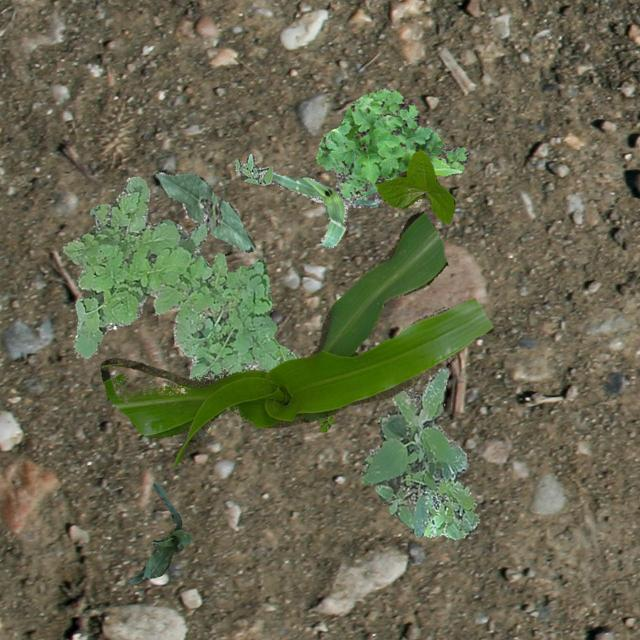crop: (100, 210, 492, 466), (255, 165, 379, 246), (153, 170, 254, 252), (128, 482, 190, 582), (374, 148, 454, 222)
weed: (61, 176, 296, 380), (360, 366, 468, 536), (316, 86, 468, 204), (422, 474, 478, 538), (232, 153, 272, 185), (316, 414, 334, 432)
